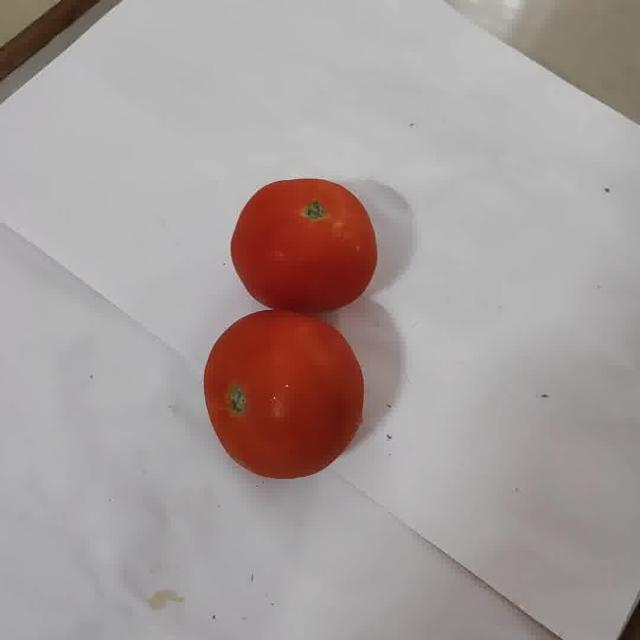Tomato: (204, 311, 364, 479), (231, 179, 377, 312)
